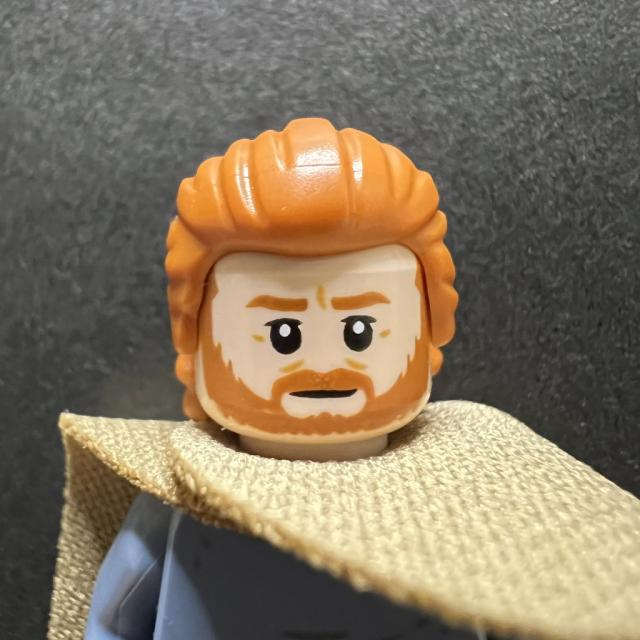lego: (153, 105, 466, 452)
